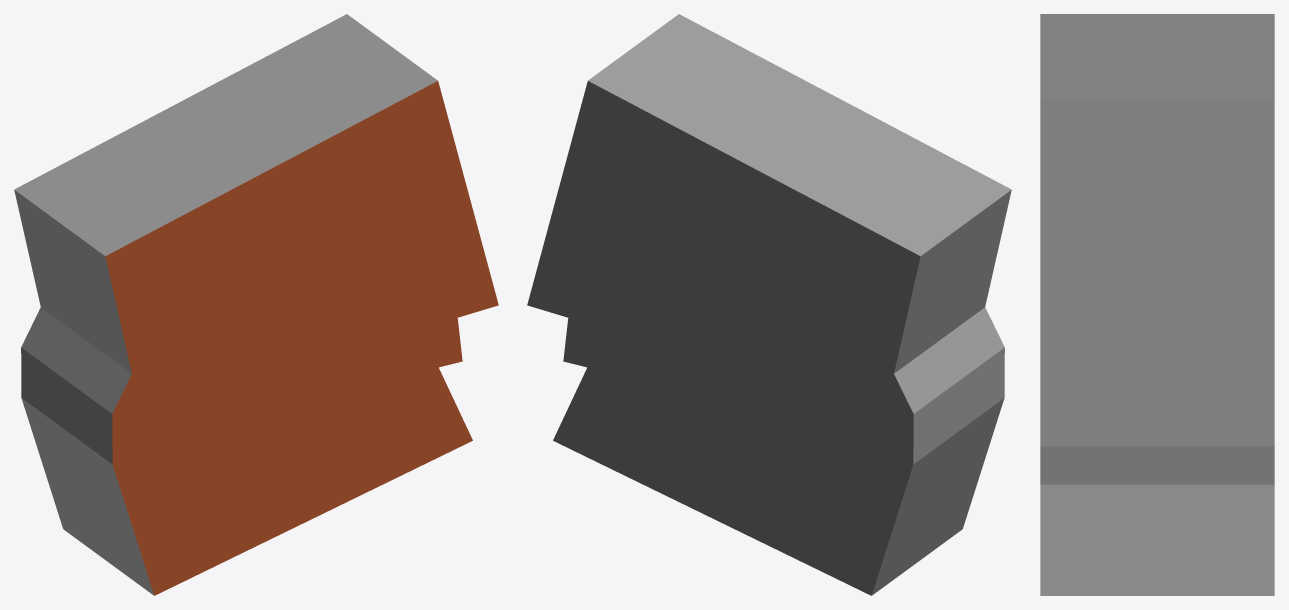
The model's file is construction_4600_assumed_A_Casa_h6m.obj.
3 renders of one model, left to right at view 1: azimuth 30°, elevation 25°; view 2: azimuth 150°, elevation 25°; view 3: azimuth 270°, elevation 25°, orthographic. The views are drawn at different scales.
Visible parts, largest first — view 1: construction_4600_assumed_A_Casa; view 2: construction_4600_assumed_A_Casa; view 3: construction_4600_assumed_A_Casa.
Boxes of the visible parts, x1,y1,x2,y2 form: construction_4600_assumed_A_Casa: [14, 14, 498, 595]; construction_4600_assumed_A_Casa: [527, 14, 1011, 595]; construction_4600_assumed_A_Casa: [1040, 14, 1274, 595].
Size of the model in its own units: 14.94 by 16.19 by 6.
